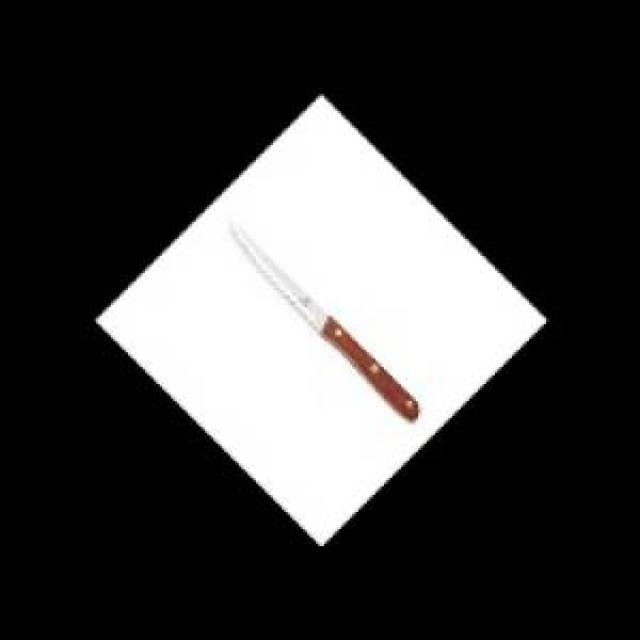knife: (228, 209, 426, 425)
